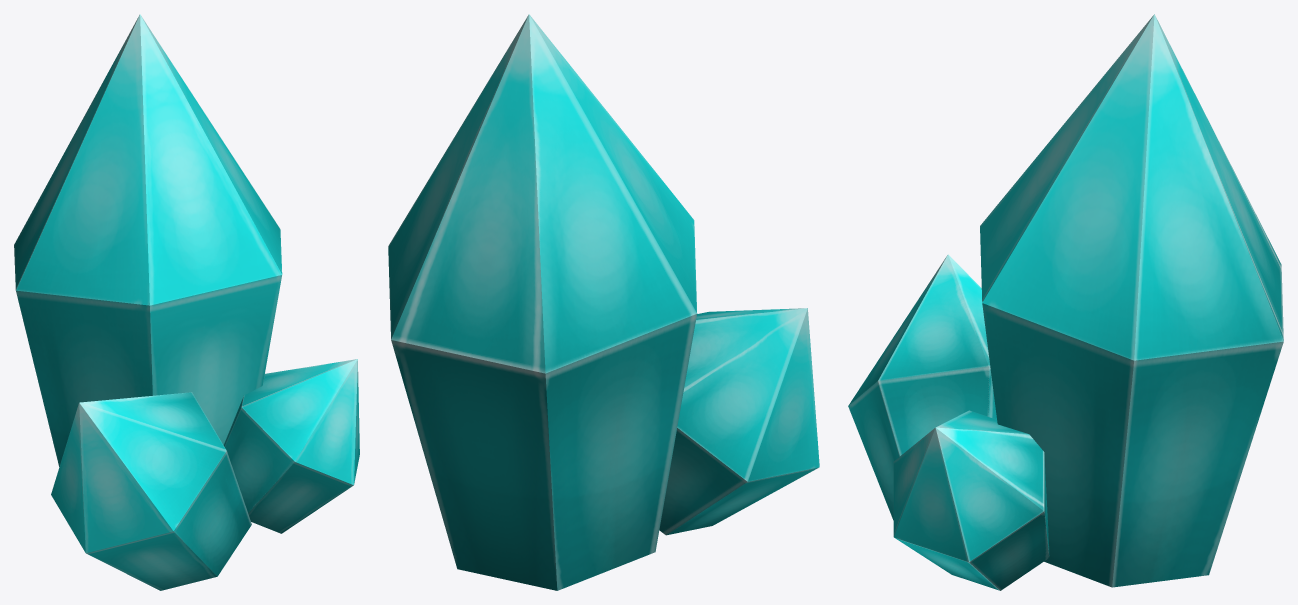
Rendered from crystalC.fbx.
3 views of the same model, side by side, from view 1: azimuth 30°, elevation 25°; view 2: azimuth 150°, elevation 25°; view 3: azimuth 270°, elevation 25° (orthographic). The views are drawn at different scales.
Parts seen in each view (by area): view 1: crystalC; view 2: crystalC; view 3: crystalC.
Part boxes in pixels (box(x1,y1,x2,y2)): crystalC: box(14, 14, 359, 590); crystalC: box(388, 14, 819, 590); crystalC: box(848, 14, 1283, 590).
Bounding box in the file's own units: 2.22 × 3.6 × 2.53.
